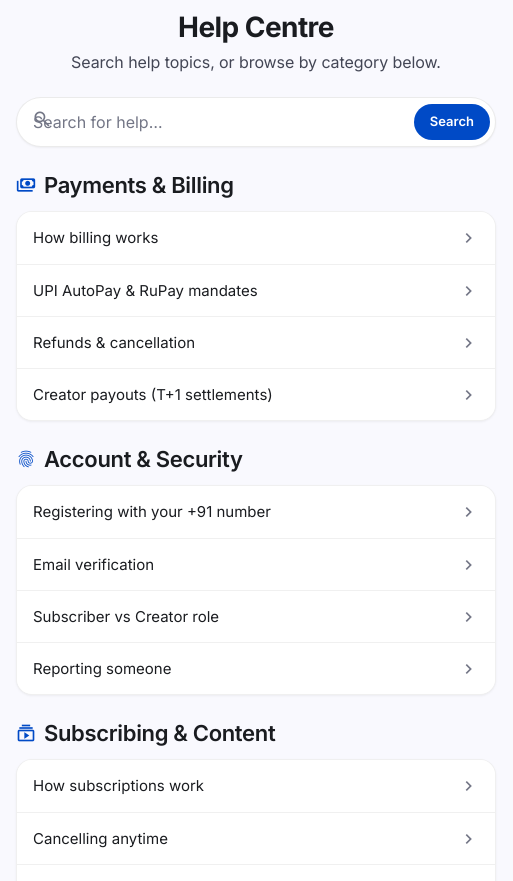
Test case: T10 — Help category filter › shows the empty state when nothing matches
Type "zzzz-not-a-topic" into the field with placeholder "Search for help…" at x=256, y=122, box top-left (16, 97), bottom-right (496, 147)
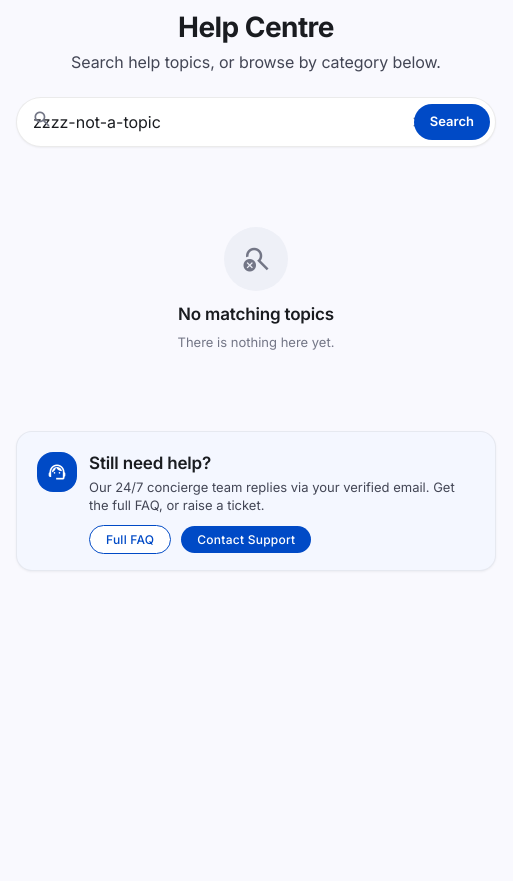
Check: the heading "No matching topics" is shown, box top-left (178, 303), bottom-right (334, 325)
